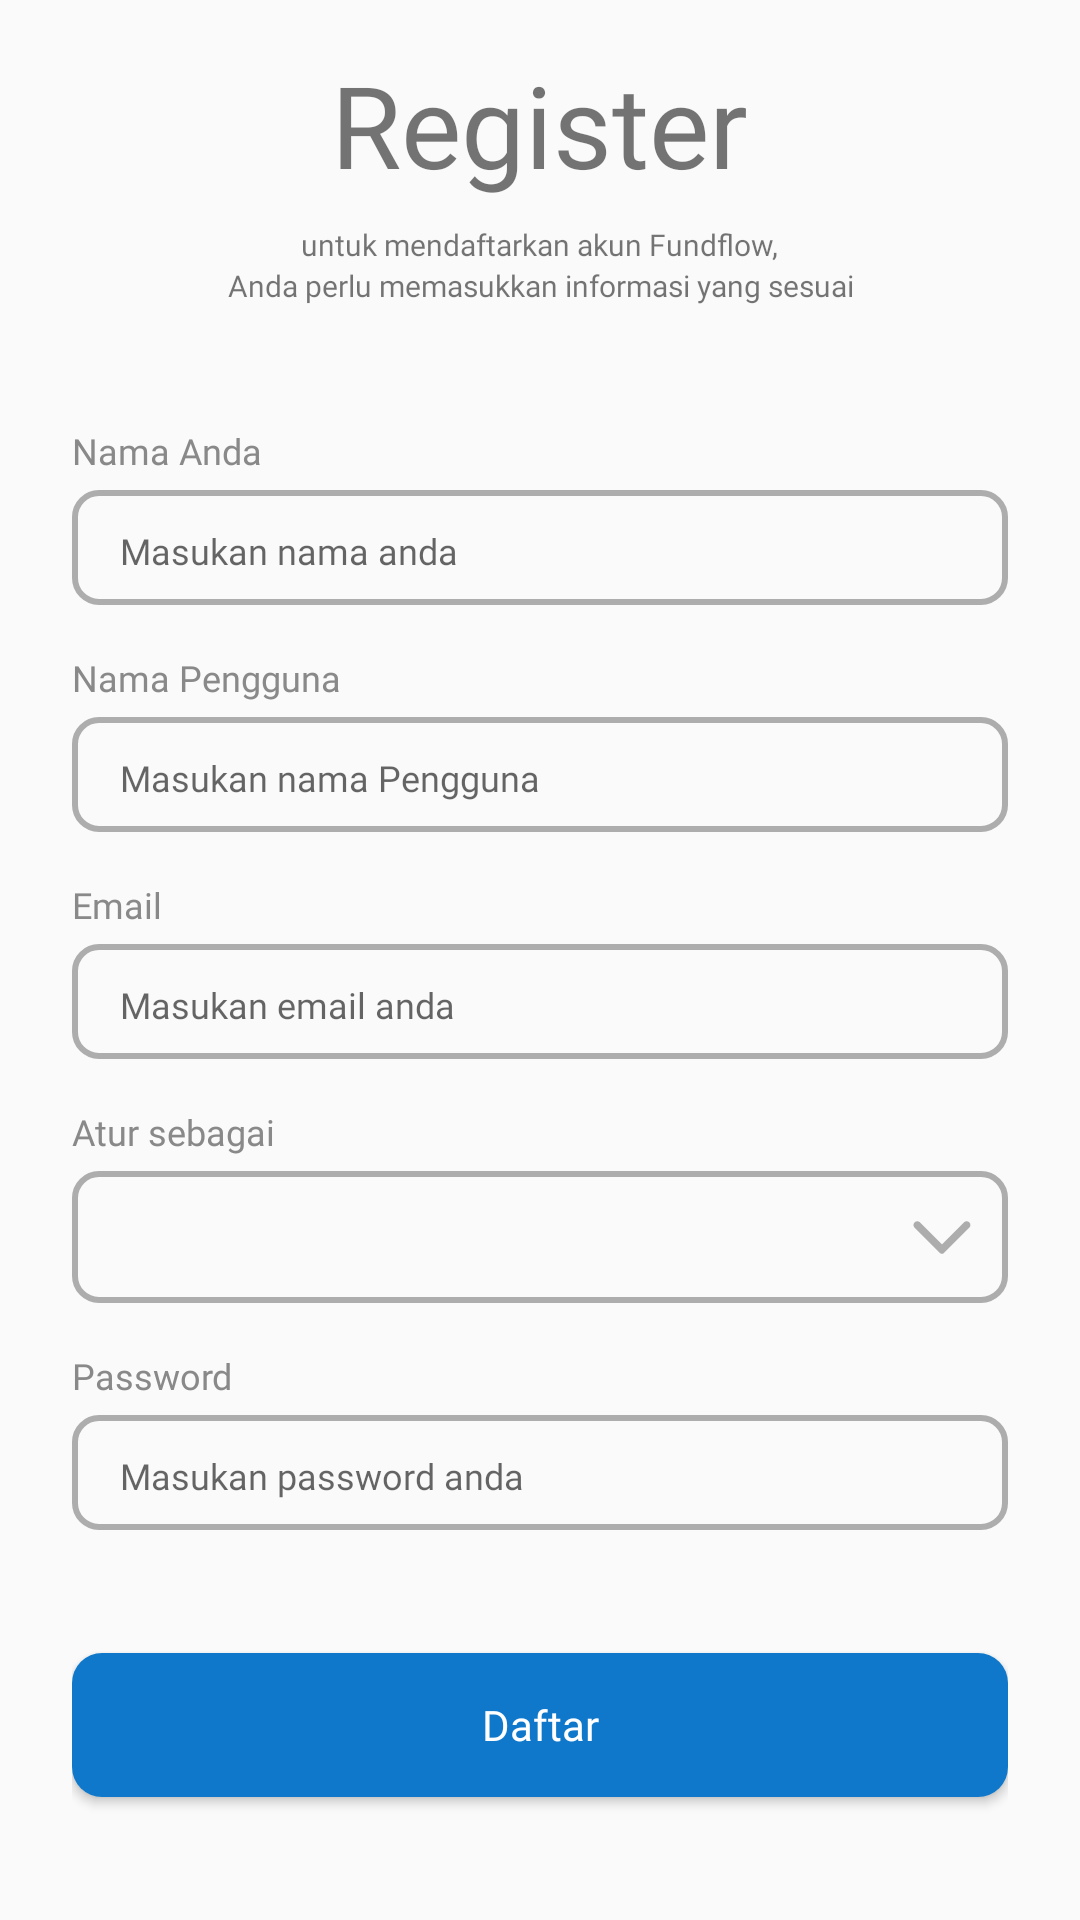

Screen size 1080×1920. Icon name, then its box in pixels as (left=x1, top=y1, right=x2, bottom=y2):
arrow drop down: (left=913, top=1221, right=971, bottom=1254)
